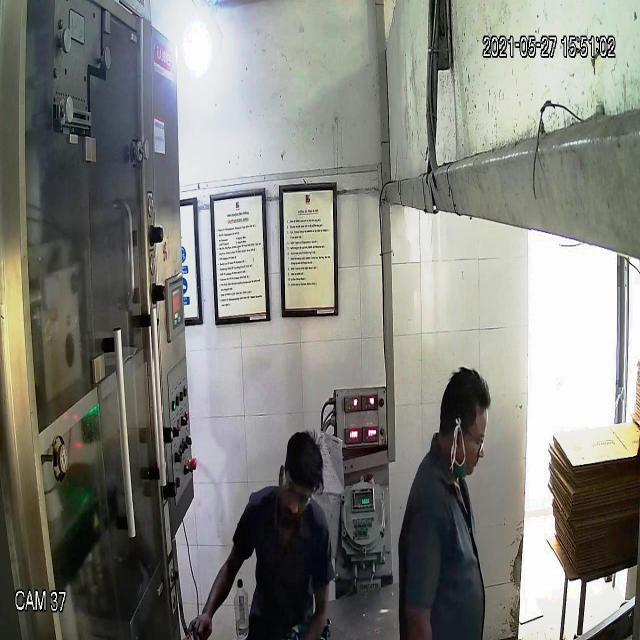glasses: (276, 467, 314, 513)
